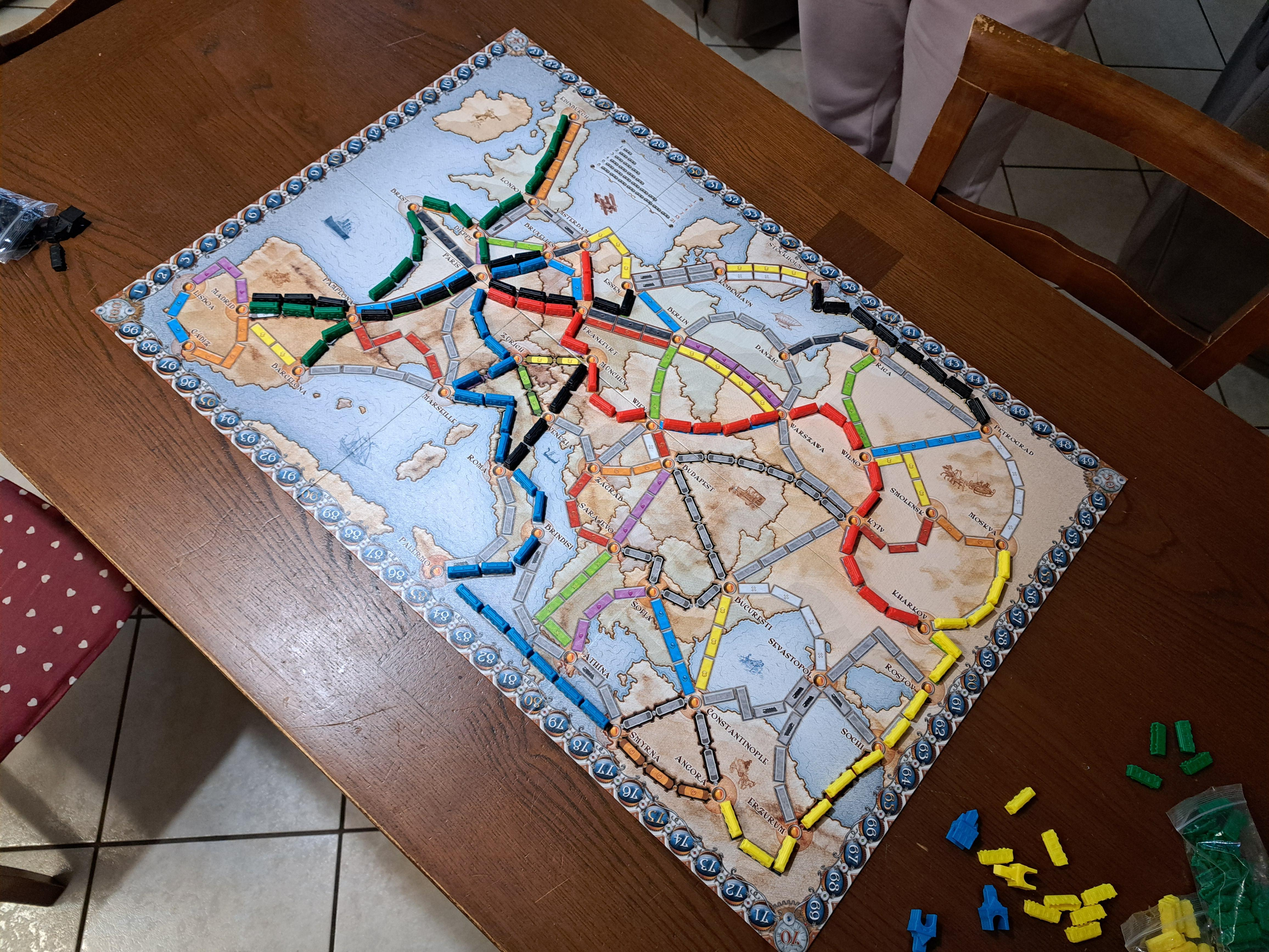corner_bl: (91, 292, 139, 331)
corner_br: (764, 911, 817, 952)
corner_tl: (498, 27, 531, 53)
corner_tr: (1088, 463, 1128, 498)
